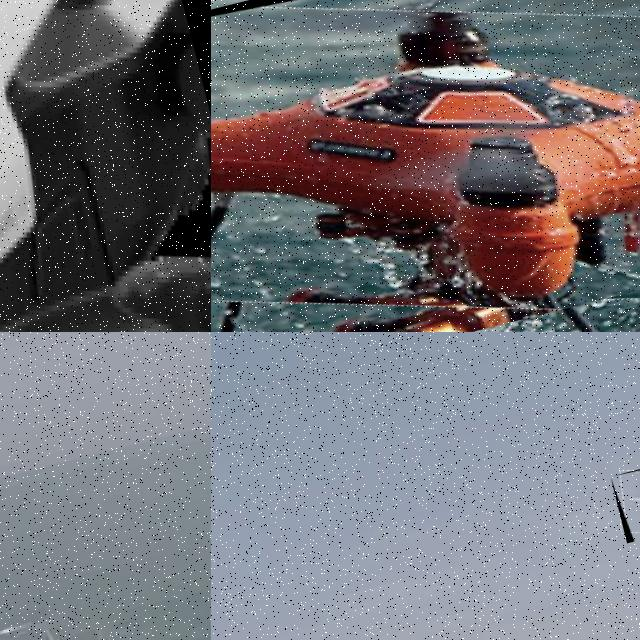drone: (211, 0, 640, 332), (0, 0, 211, 332), (610, 460, 640, 543)
